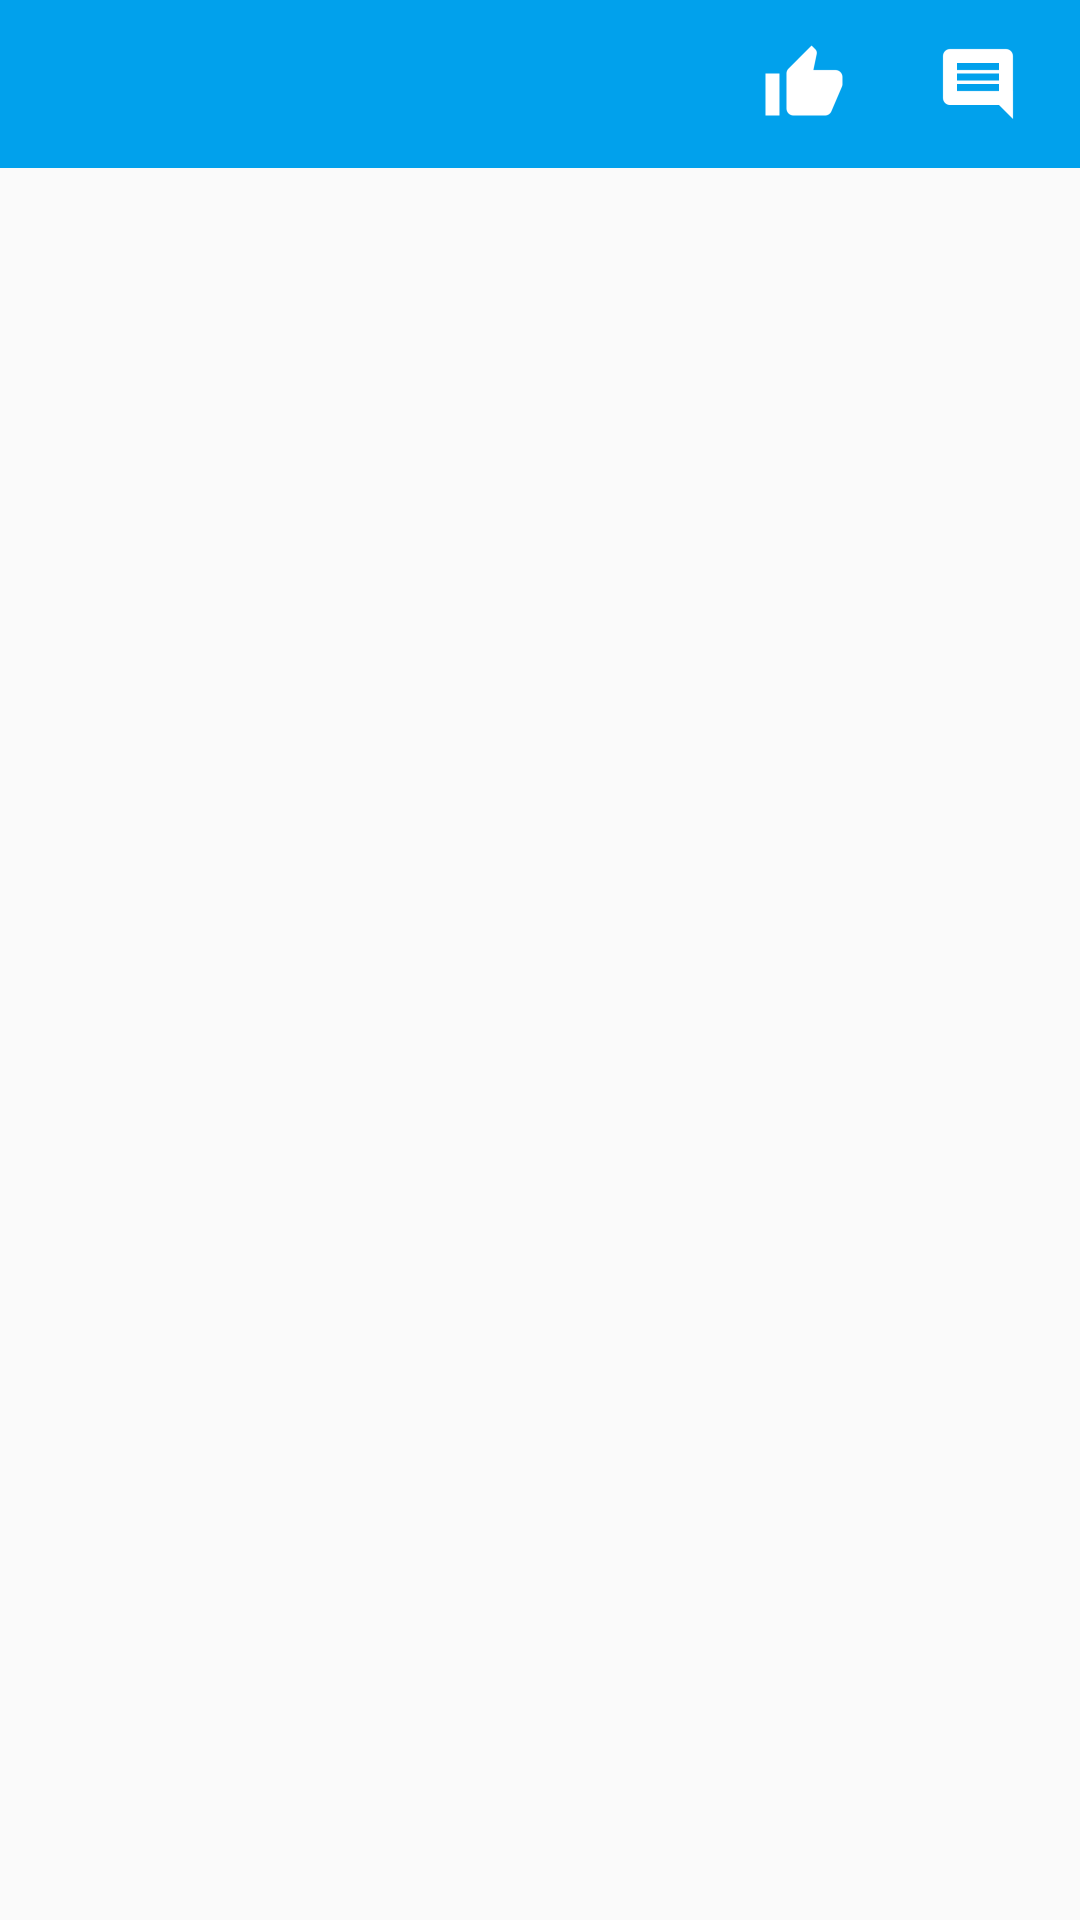

Screen size 1080*1920. Icon name, then its box in pixels as (x1=x1, y1=y1, x2=x2, y2=y2):
comment: (x1=943, y1=49, x2=1013, y2=119)
like: (x1=765, y1=45, x2=843, y2=116)
